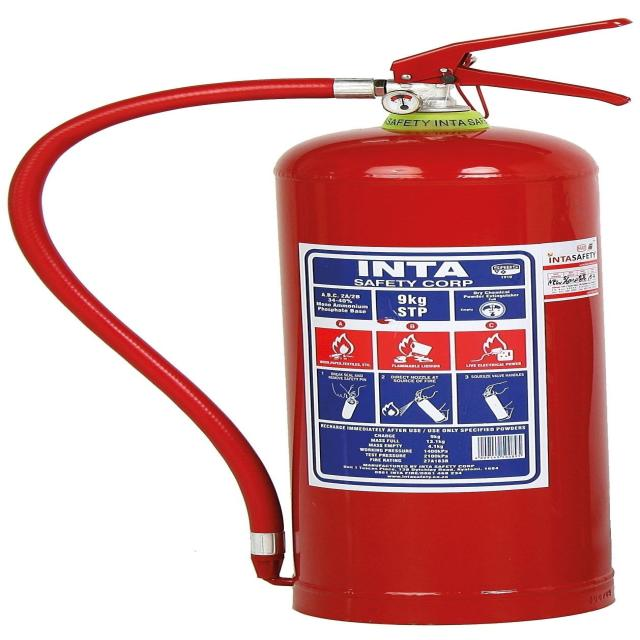fire_extinguisher: (0, 15, 637, 630)
